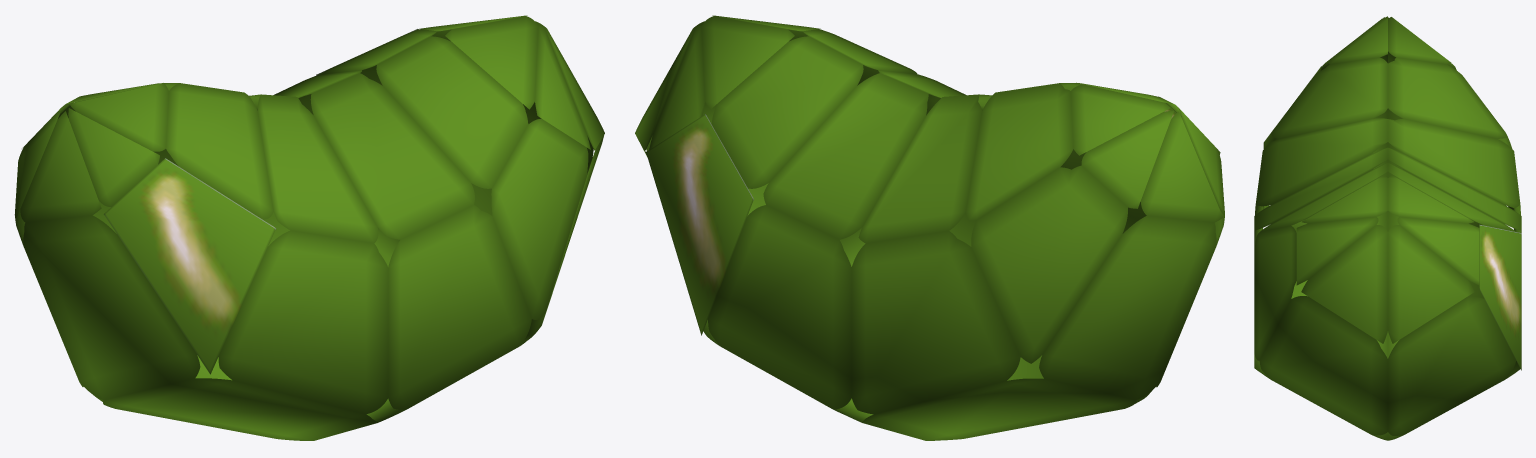
3 renders of one model, left to right at view 1: azimuth 30°, elevation 25°; view 2: azimuth 150°, elevation 25°; view 3: azimuth 270°, elevation 25°, orthographic. The views are drawn at different scales.
Visible parts, largest first — view 1: T1L3M003_16; view 2: T1L3M003_16; view 3: T1L3M003_16.
Boxes of the visible parts, <box> form: T1L3M003_16: <box>14,15,604,440</box>; T1L3M003_16: <box>635,15,1224,440</box>; T1L3M003_16: <box>1254,16,1521,440</box>.
Size of the model in its own units: 0.5615 by 0.3604 by 0.2793.
Materials: 1 (1 with a texture image).
